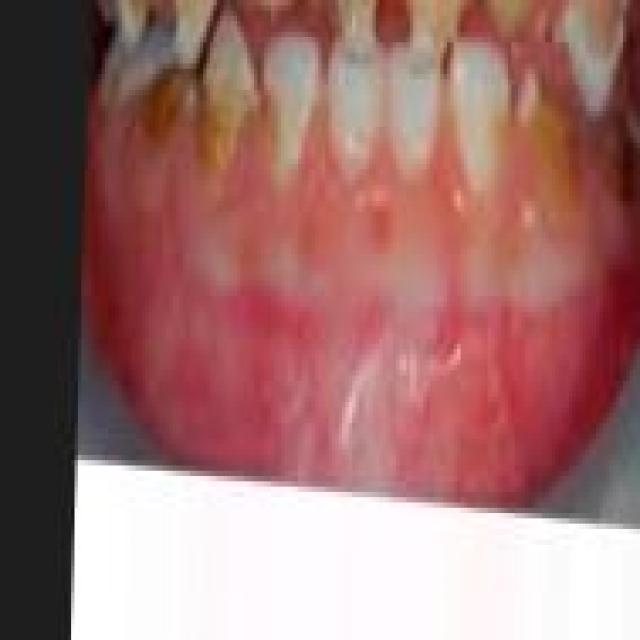caries: (143, 57, 198, 147), (199, 85, 247, 175)
